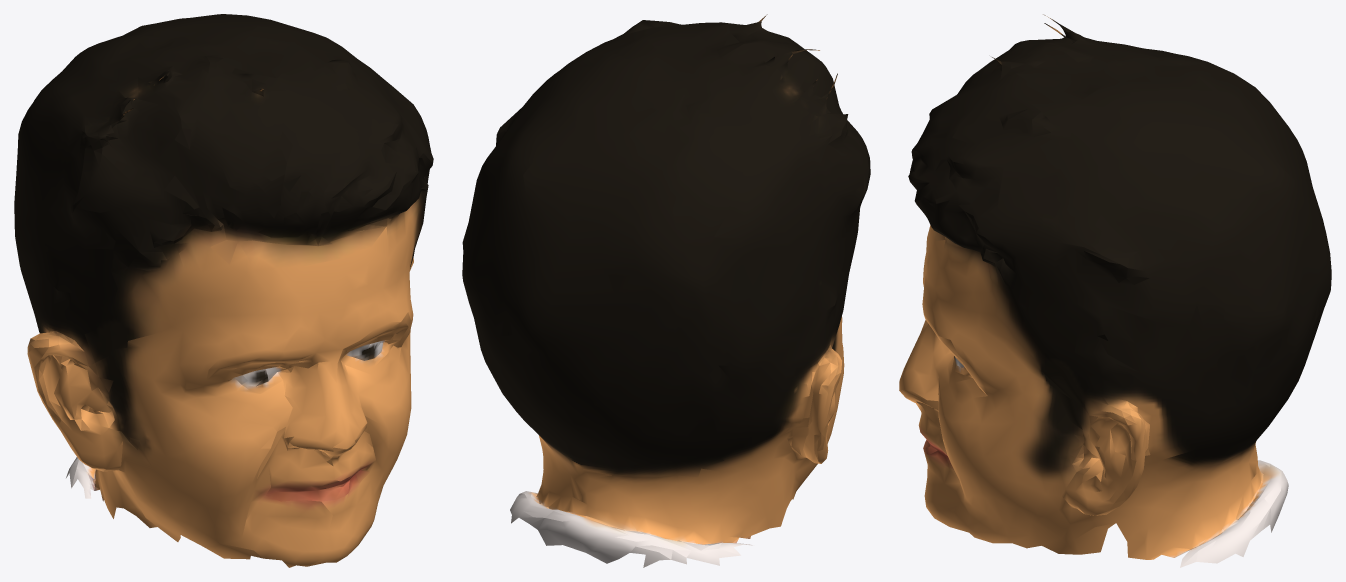
Rendered from fropy_head.obj.
3 views of the same model, side by side, from view 1: azimuth 30°, elevation 25°; view 2: azimuth 150°, elevation 25°; view 3: azimuth 270°, elevation 25° (orthographic). The views are drawn at different scales.
Parts seen in each view (by area): view 1: fropy_head; view 2: fropy_head; view 3: fropy_head.
Part boxes in pixels (x1=…): fropy_head: x1=14, y1=14, x2=433, y2=567; fropy_head: x1=462, y1=14, x2=870, y2=567; fropy_head: x1=899, y1=14, x2=1331, y2=567.
Size of the model in its own units: 1.39 by 1.65 by 1.45.
Materials: 1 (1 with a texture image).
